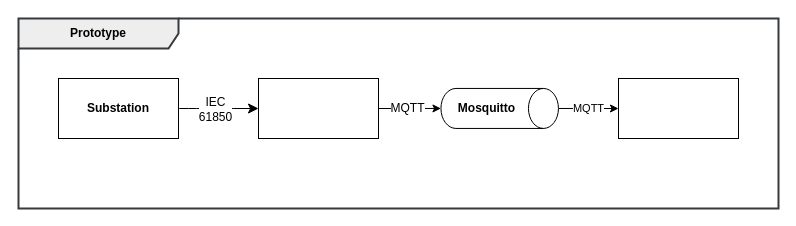
Some shapes in this 796 by 226 pixel diagram are drawn without their labels. The centre of each missing label's shape, as x and y in pixels:
Adapter: the point at 318,108
Grafana: the point at 678,108
